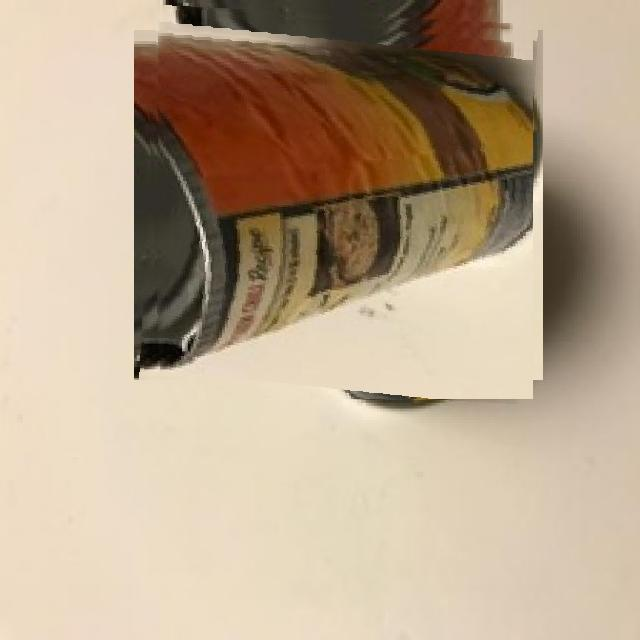recyclable: (144, 10, 533, 399)
